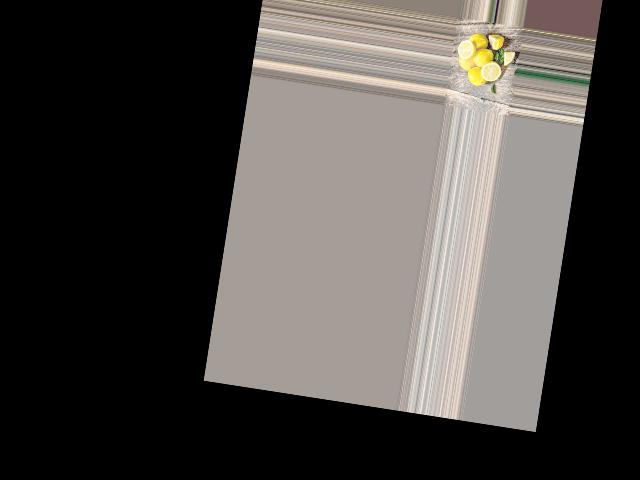lemon: (469, 31, 491, 52)
